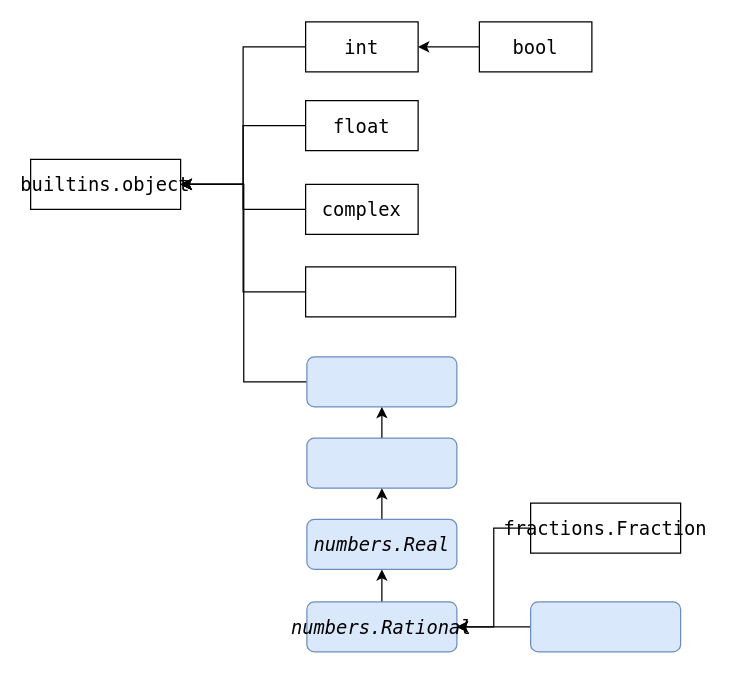
This 729x674 diagram has some shape labels left out. The centre of each missing label's shape, as x and y in pixels:
decimal.Decimal: pixel 380 291
numbers.Complex: pixel 381 462
numbers.Integral: pixel 605 626
numbers.Number: pixel 381 381
